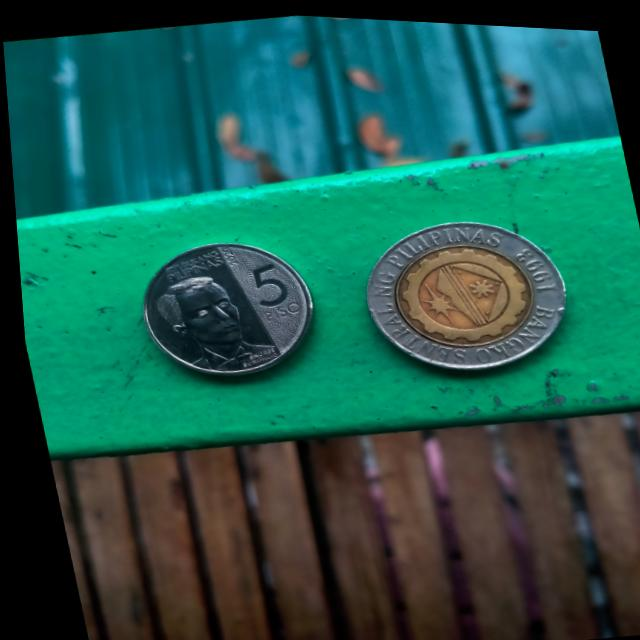10_Old_Back: (347, 198, 579, 388)
5_New_Front: (225, 253, 301, 324)
